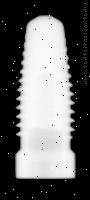Nobel Biocare: (11, 13, 76, 180)
